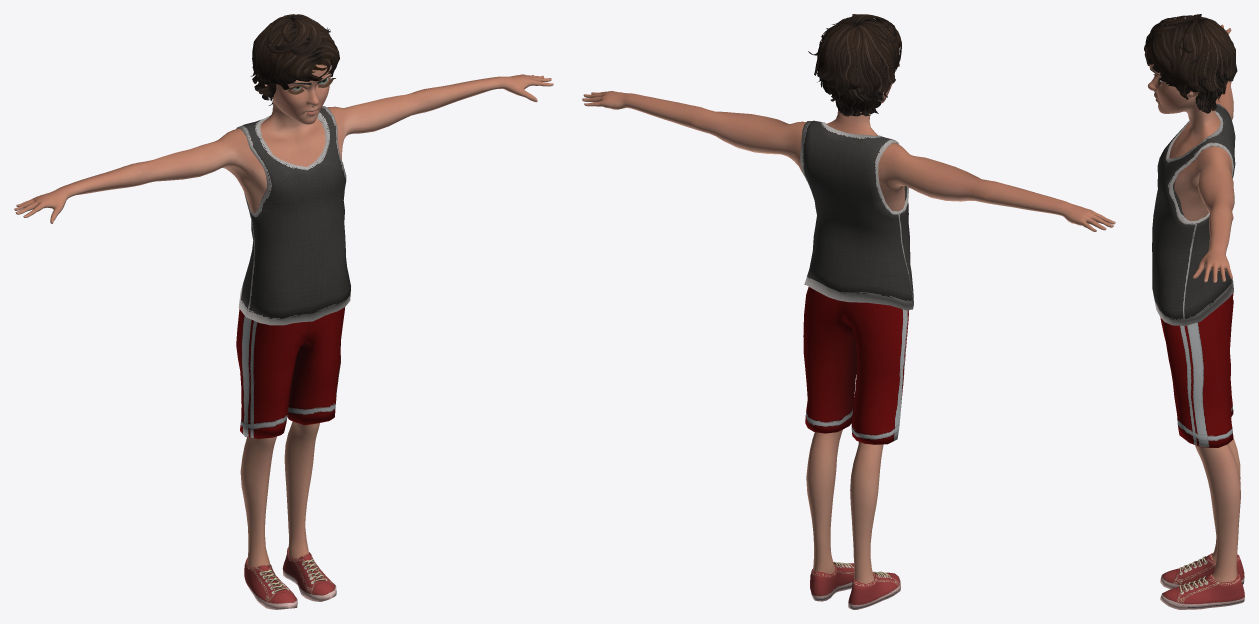
File: WorriedBoy.obj
3 views of the same model, side by side, from view 1: azimuth 30°, elevation 25°; view 2: azimuth 150°, elevation 25°; view 3: azimuth 270°, elevation 25° (orthographic).
Visible parts, largest first — view 1: Body, Tops, Bottoms, Hair, Shoes; view 2: Body, Tops, Bottoms, Hair, Shoes; view 3: Body, Tops, Bottoms, Hair, Shoes.
Part boxes in pixels (<box>): Body: <box>14,59,553,567</box>; Tops: <box>236,106,350,325</box>; Bottoms: <box>236,307,344,438</box>; Hair: <box>250,14,339,105</box>; Shoes: <box>244,547,336,609</box>; Body: <box>582,83,1115,583</box>; Tops: <box>800,120,913,310</box>; Bottoms: <box>803,287,908,444</box>; Hair: <box>808,14,901,116</box>; Shoes: <box>810,561,900,609</box>; Body: <box>1148,24,1240,582</box>; Tops: <box>1152,103,1235,325</box>; Bottoms: <box>1160,288,1233,447</box>; Hair: <box>1144,14,1237,113</box>; Shoes: <box>1160,553,1244,609</box>.
Bounding box in the file's own units: 163 × 168 × 26.64.
Materials: 5 (5 with a texture image).
